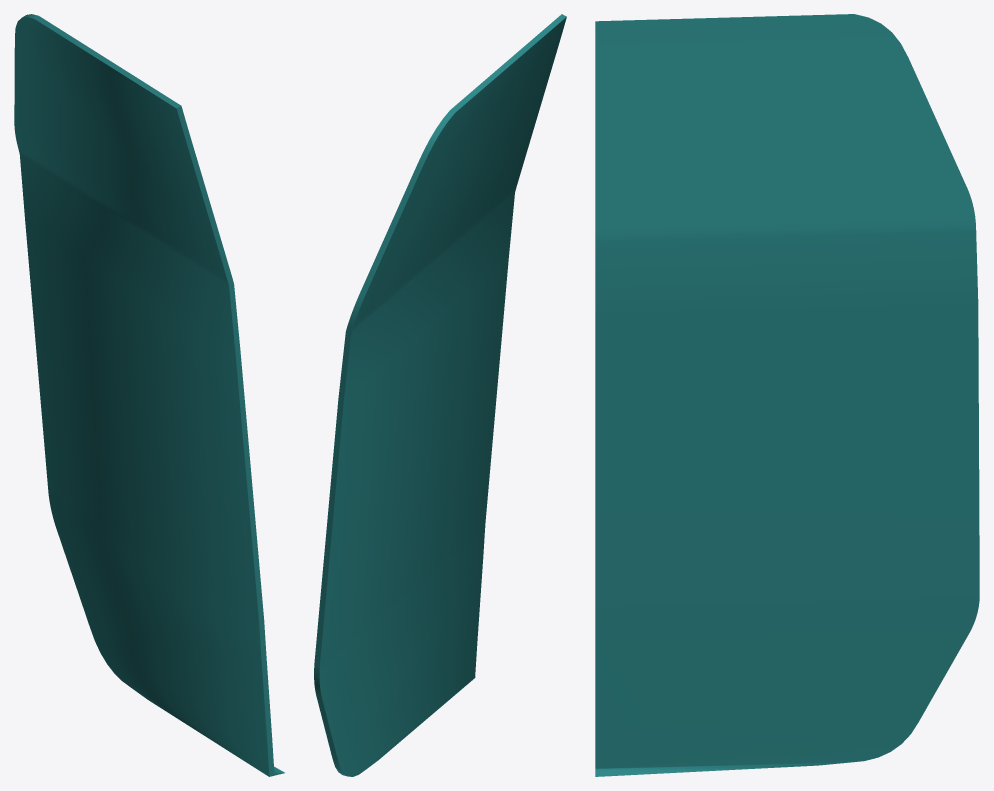
The model's file is Module_Petite_Porte_Droite.fbx.
3 views of the same model, side by side, from view 1: azimuth 30°, elevation 25°; view 2: azimuth 150°, elevation 25°; view 3: azimuth 270°, elevation 25° (orthographic). The views are drawn at different scales.
Visible parts, largest first — view 1: Object111; view 2: Object111; view 3: Object111.
Boxes of the visible parts, bbox=[...] form: Object111: bbox=[14, 14, 284, 776]; Object111: bbox=[314, 14, 566, 776]; Object111: bbox=[595, 14, 979, 776].
Bounding box in the file's own units: 41.78 × 223 × 111.
